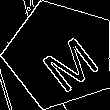M_NW: (26, 21, 95, 89)
